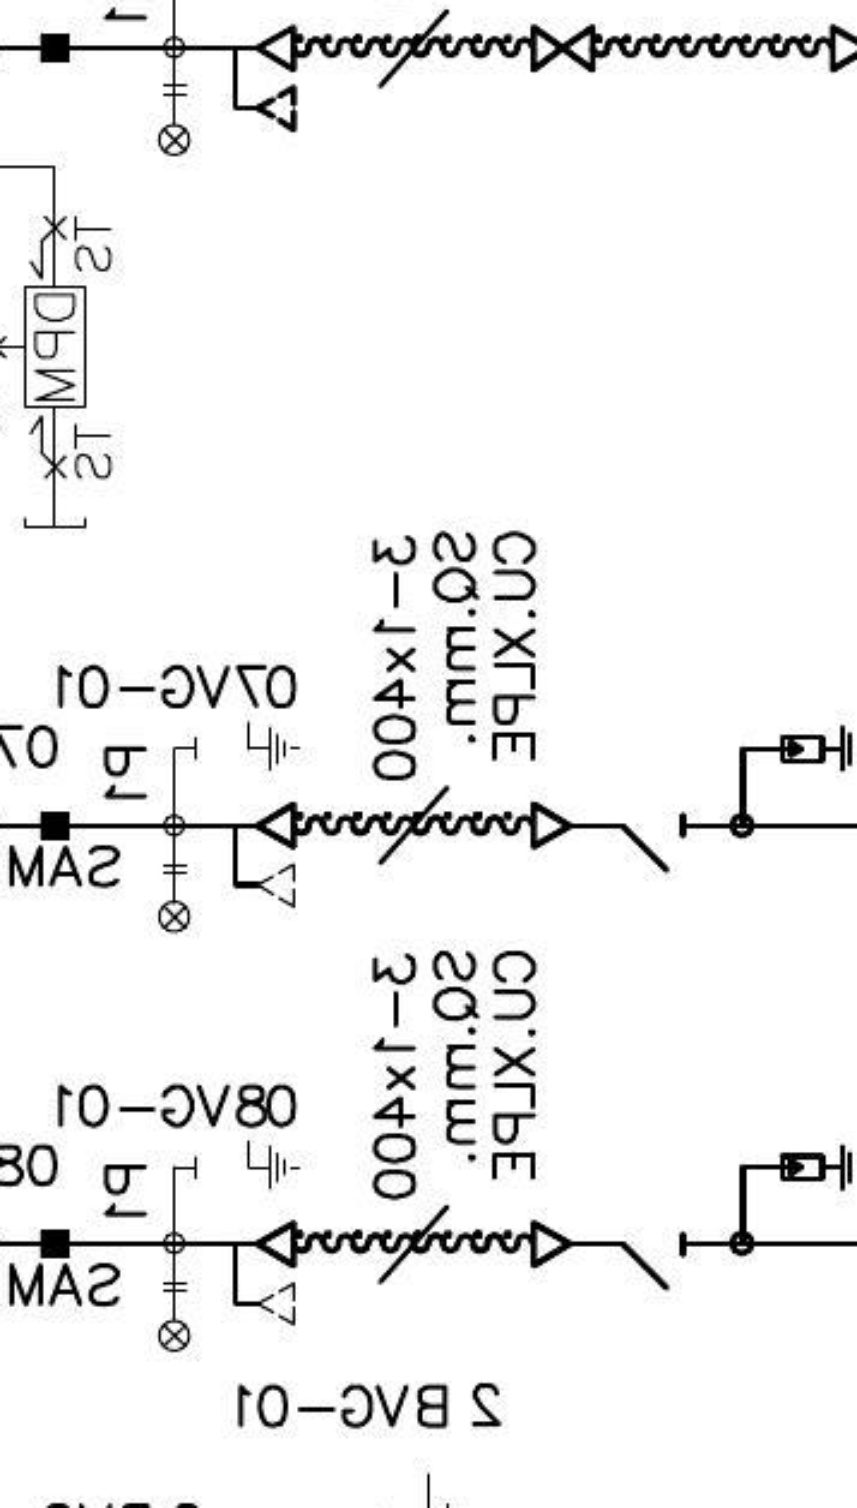22_gs: (191, 719, 301, 776), (193, 1135, 303, 1192)
22_ll: (156, 82, 193, 157), (154, 862, 191, 937), (156, 1278, 193, 1354)
DPM: (21, 284, 89, 411)
terminator_single: (527, 1217, 574, 1272), (527, 798, 573, 852)
terminator_splicing_kits: (530, 23, 597, 74)
terminator_w_future: (230, 21, 301, 134), (228, 801, 298, 914), (230, 1217, 301, 1330)
